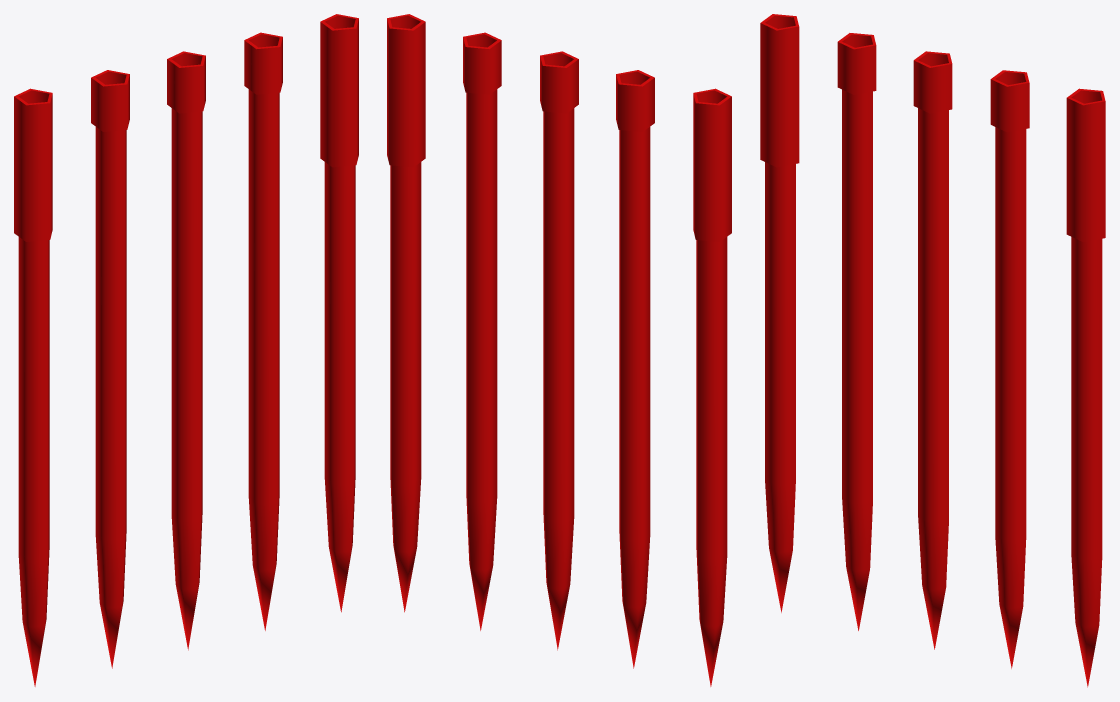
Rendered from m_exitdoor.fbx.
The picture shows the model from 3 angles, left to right: view 1: azimuth 30°, elevation 25°; view 2: azimuth 150°, elevation 25°; view 3: azimuth 330°, elevation 25°; orthographic projection.
Parts seen in each view (by area): view 1: m_exitdoor; view 2: m_exitdoor; view 3: m_exitdoor.
Part boxes in pixels (x1=…): m_exitdoor: x1=14, y1=14, x2=358, y2=686; m_exitdoor: x1=387, y1=14, x2=731, y2=686; m_exitdoor: x1=760, y1=14, x2=1105, y2=687.
Size of the model in its own units: 1.66 by 2.77 by 0.1681.
